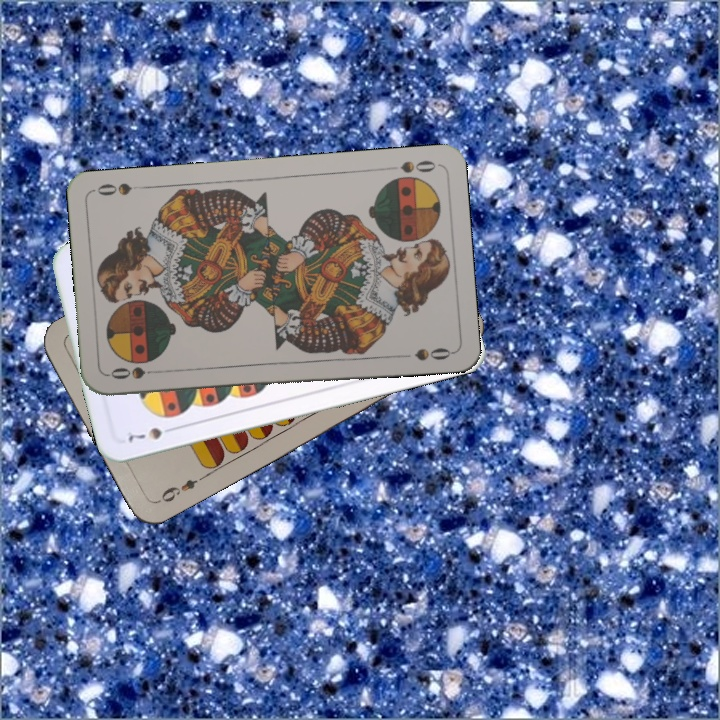E9: (154, 471, 208, 505)
S7: (123, 422, 179, 444)
SO: (105, 363, 165, 382), (396, 156, 439, 176)
